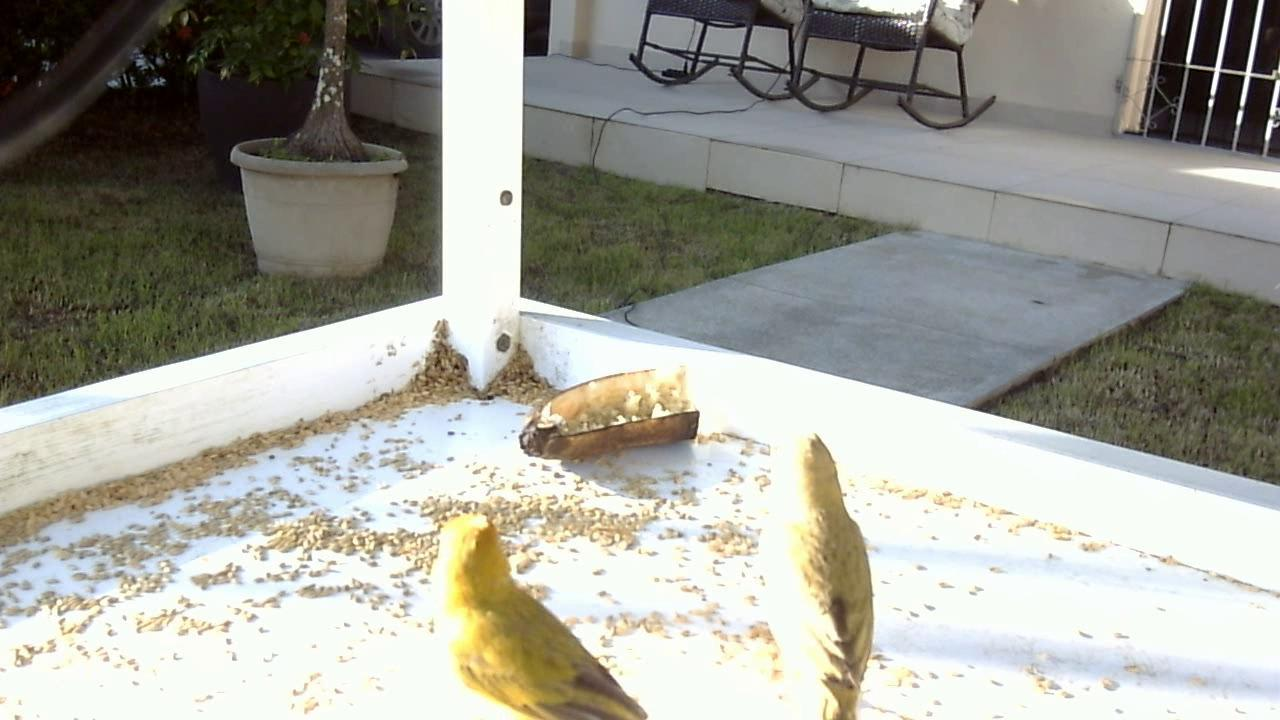canario_do_amazonas: (430, 508, 651, 720), (761, 425, 890, 718)
